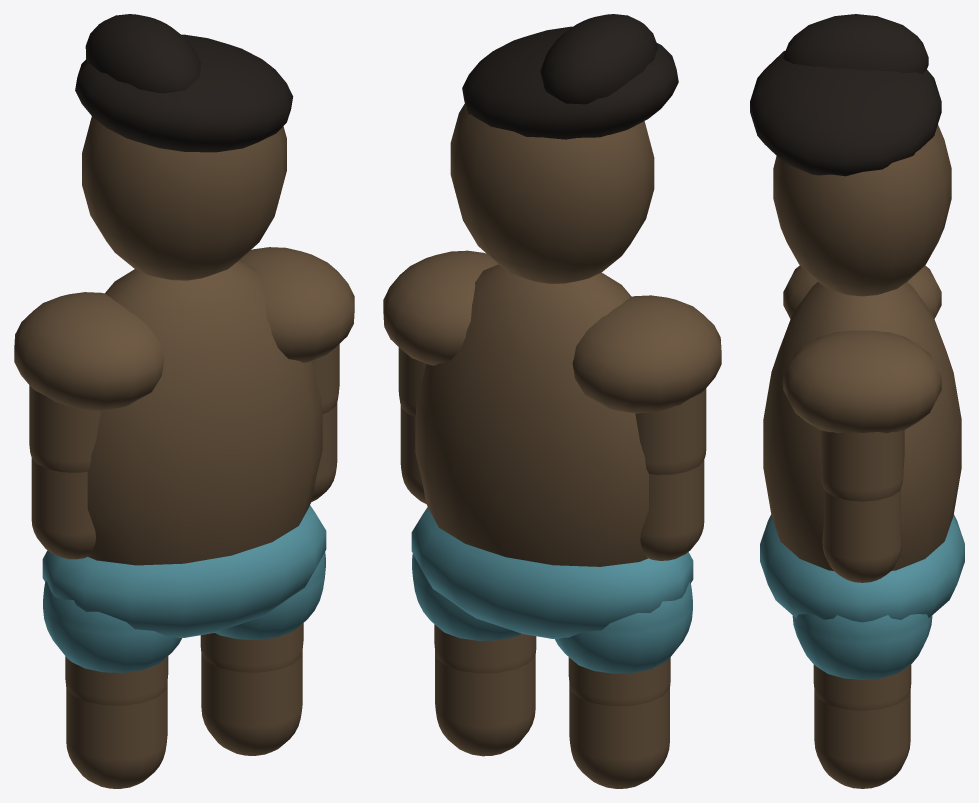
Rendered from citizen_0.glb.
3 renders of one model, left to right at view 1: azimuth 30°, elevation 25°; view 2: azimuth 150°, elevation 25°; view 3: azimuth 270°, elevation 25°, orthographic. The views are drawn at different scales.
Visible parts, largest first — view 1: Body, HeadShape, ShortsWaist, HairCap, LeftShoulder, RightShoulder, Shin2, Shin, HairTuft, Shorts, Forearm, PillArm (+5 smaller); view 2: Body, HeadShape, ShortsWaist, LeftShoulder, HairCap, RightShoulder, Shin2, Shin, HairTuft, Shorts, Forearm, PillArm (+5 smaller); view 3: Body, HeadShape, HairCap, RightShoulder, ShortsWaist, Shin2, Shorts2, HairTuft, Forearm2, PillArm2, PillLeg2, LeftShoulder.
Boxes of the visible parts, box(x1,y1,x2,y2) form: Body: box(87, 261, 322, 565); HeadShape: box(82, 116, 286, 280); ShortsWaist: box(42, 505, 326, 637); HairCap: box(75, 34, 293, 152); LeftShoulder: box(14, 292, 164, 410); RightShoulder: box(239, 247, 354, 362); Shin2: box(201, 651, 302, 755); Shin: box(66, 682, 167, 788); HairTuft: box(85, 14, 200, 93); Shorts: box(43, 581, 181, 672); Forearm: box(31, 458, 95, 559); PillArm: box(29, 385, 100, 472); Body: box(415, 264, 648, 566); HeadShape: box(450, 103, 654, 283); ShortsWaist: box(411, 507, 693, 638); LeftShoulder: box(572, 295, 721, 413); HairCap: box(462, 26, 678, 139); RightShoulder: box(383, 250, 498, 365); Shin2: box(435, 651, 535, 756); Shin: box(569, 683, 669, 788); HairTuft: box(540, 14, 657, 104); Shorts: box(555, 582, 692, 673); Forearm: box(640, 460, 704, 560); PillArm: box(635, 388, 706, 474); Body: box(763, 282, 961, 570); HeadShape: box(773, 125, 951, 296); HairCap: box(750, 50, 941, 176); RightShoulder: box(783, 330, 941, 433); ShortsWaist: box(760, 514, 964, 622); Shin2: box(814, 691, 910, 788); Shorts2: box(792, 614, 932, 679); HairTuft: box(783, 14, 928, 73); Forearm2: box(822, 488, 902, 582); PillArm2: box(820, 430, 904, 501); PillLeg2: box(813, 664, 911, 710); LeftShoulder: box(783, 265, 941, 318).
Bounding box in the file's own units: 0.5178 × 1.18 × 0.3219.
